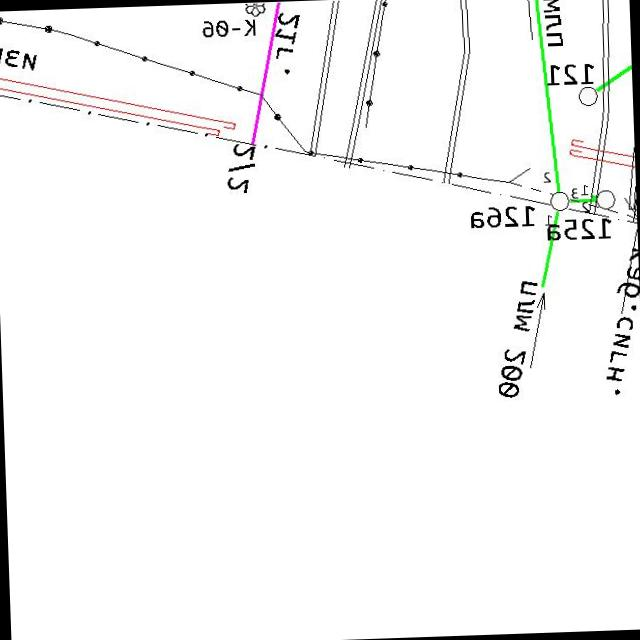well: (576, 84, 600, 108), (594, 187, 618, 210), (548, 189, 570, 213)
